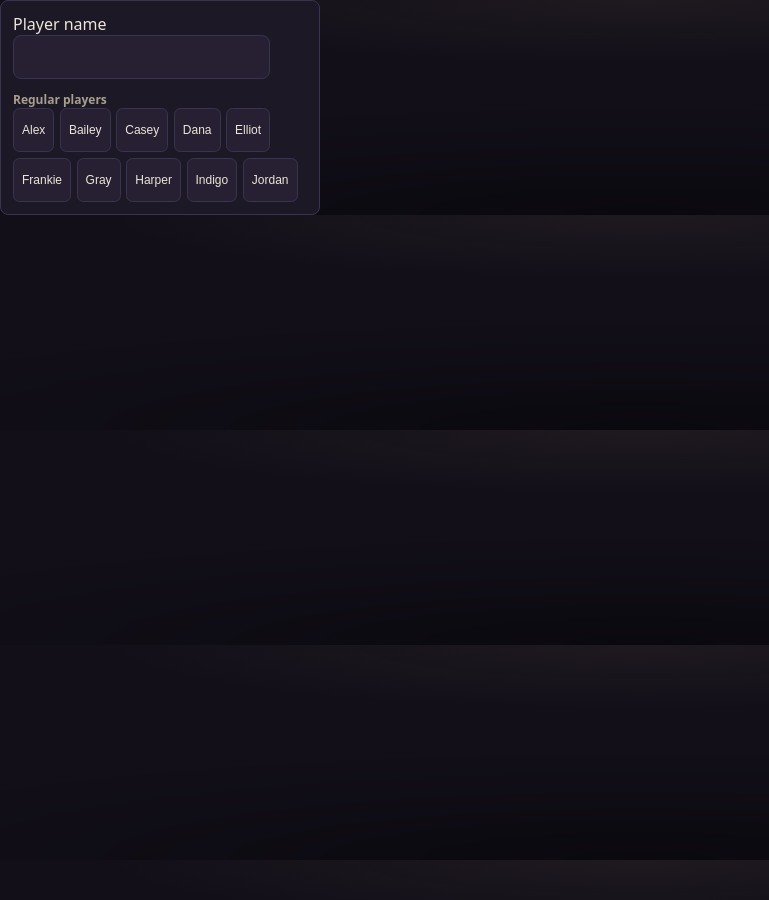
naming yourself from the same input when there's no matching player (issue #157) › offers a 'name yourself' action once the typed text matches no regular player
Type "Substitute Sam" into the field at (142, 57), box [13, 35, 270, 79]
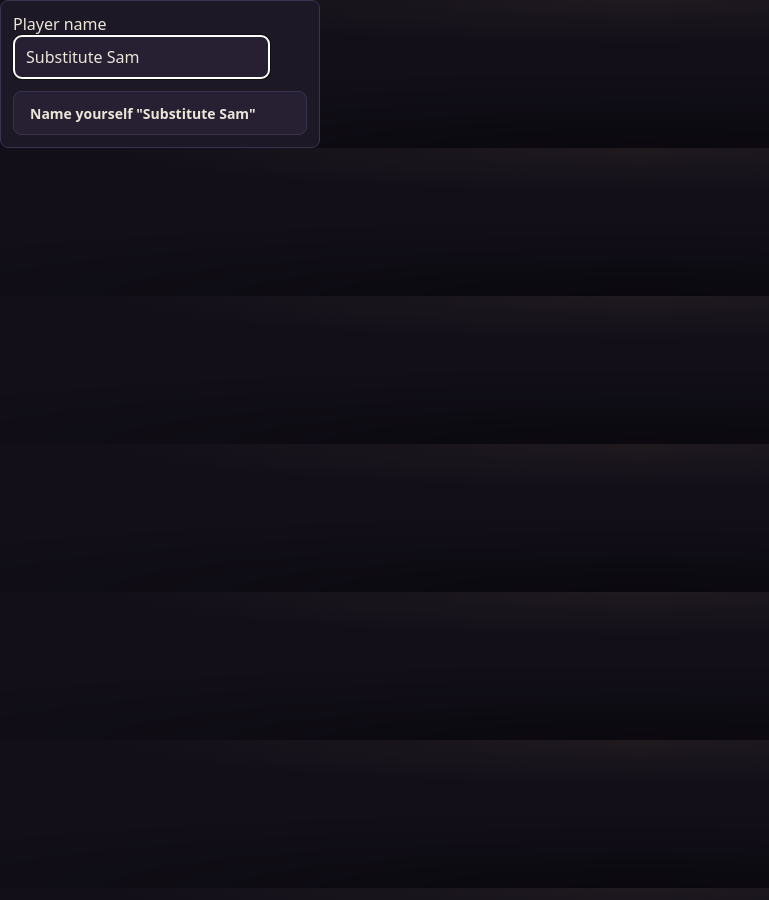
Result: the button "Name yourself \"Substitute Sam\"" is shown at [13, 91, 307, 135]
